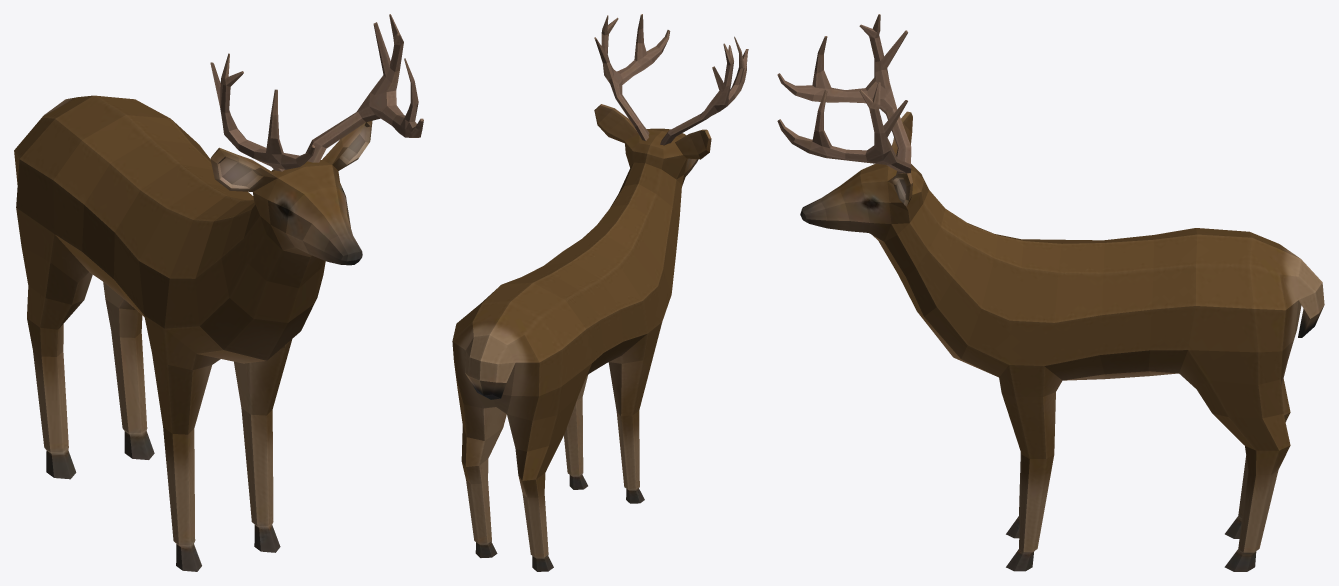
File: venado.glb
3 views of the same model, side by side, from view 1: azimuth 30°, elevation 25°; view 2: azimuth 150°, elevation 25°; view 3: azimuth 270°, elevation 25° (orthographic). The views are drawn at different scales.
Visible parts, largest first — view 1: MuleDeer_mesh; view 2: MuleDeer_mesh; view 3: MuleDeer_mesh.
Part boxes in pixels (x1,y1,x2,y2): MuleDeer_mesh: (14,14,423,571); MuleDeer_mesh: (452,14,748,571); MuleDeer_mesh: (777,14,1324,571).
Bounding box in the file's own units: 4.79 × 14.89 × 14.69.
1 material, 1 textured.
